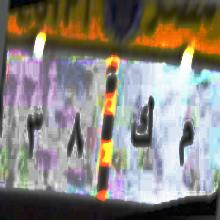3: (24, 106, 44, 168)
8: (65, 105, 85, 174)
kaaf: (128, 86, 158, 168)
meem: (176, 115, 196, 182)
